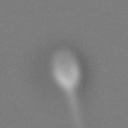normal: (64, 89, 96, 128)
